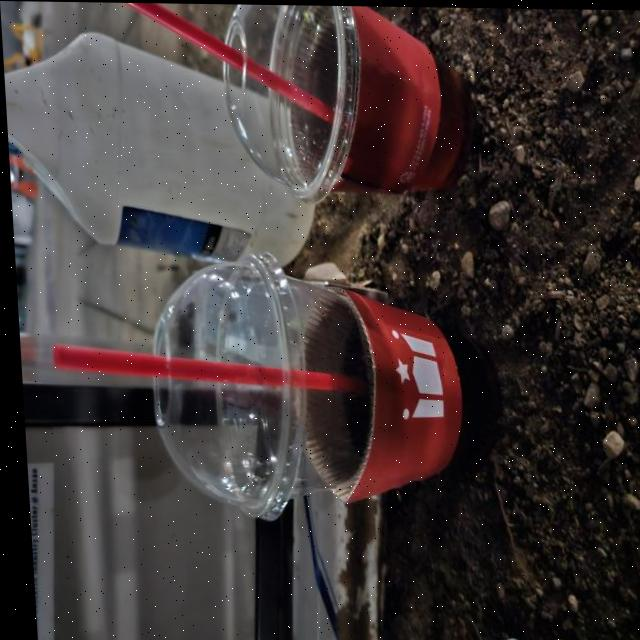cup: (129, 244, 508, 529), (210, 3, 478, 211)
